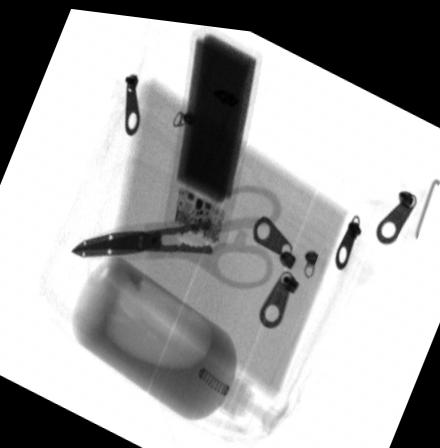Powerbank: (161, 29, 258, 246)
Scissors: (64, 176, 283, 283)
